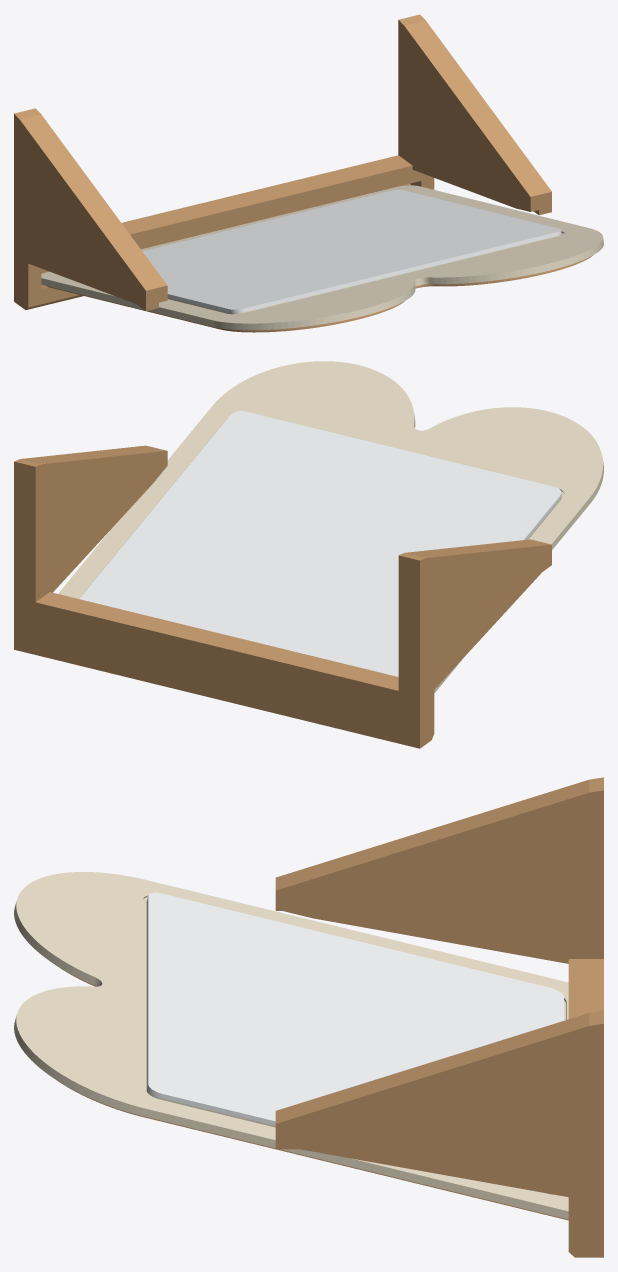
File: leshem-yichud-luchot-stand-preview.glb
3 renders of one model, top to bottom at view 1: azimuth 30°, elevation 25°; view 2: azimuth 150°, elevation 25°; view 3: azimuth 270°, elevation 25°, orthographic. The views are drawn at different scales.
Parts seen in each view (by area): view 1: stand, mirror, body, accent; view 2: mirror, stand, body; view 3: stand, mirror, body, accent.
Boxes of the visible parts, left/top/right/bottom form: stand: left=14, top=14, right=551, bottom=310; mirror: left=142, top=190, right=561, bottom=313; body: left=41, top=185, right=603, bottom=330; accent: left=47, top=255, right=592, bottom=332; mirror: left=79, top=411, right=561, bottom=676; stand: left=14, top=445, right=551, bottom=748; body: left=58, top=361, right=603, bottom=693; stand: left=275, top=777, right=603, bottom=1257; mirror: left=147, top=892, right=563, bottom=1125; body: left=14, top=872, right=568, bottom=1219; accent: left=58, top=967, right=568, bottom=1220.
Bounding box in the file's own units: 121 × 53.37 × 122.
